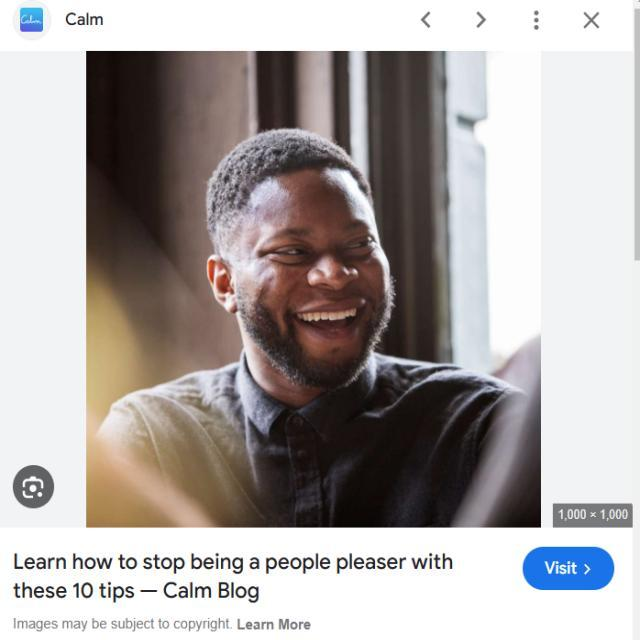face_no_mask: (211, 180, 397, 375)
